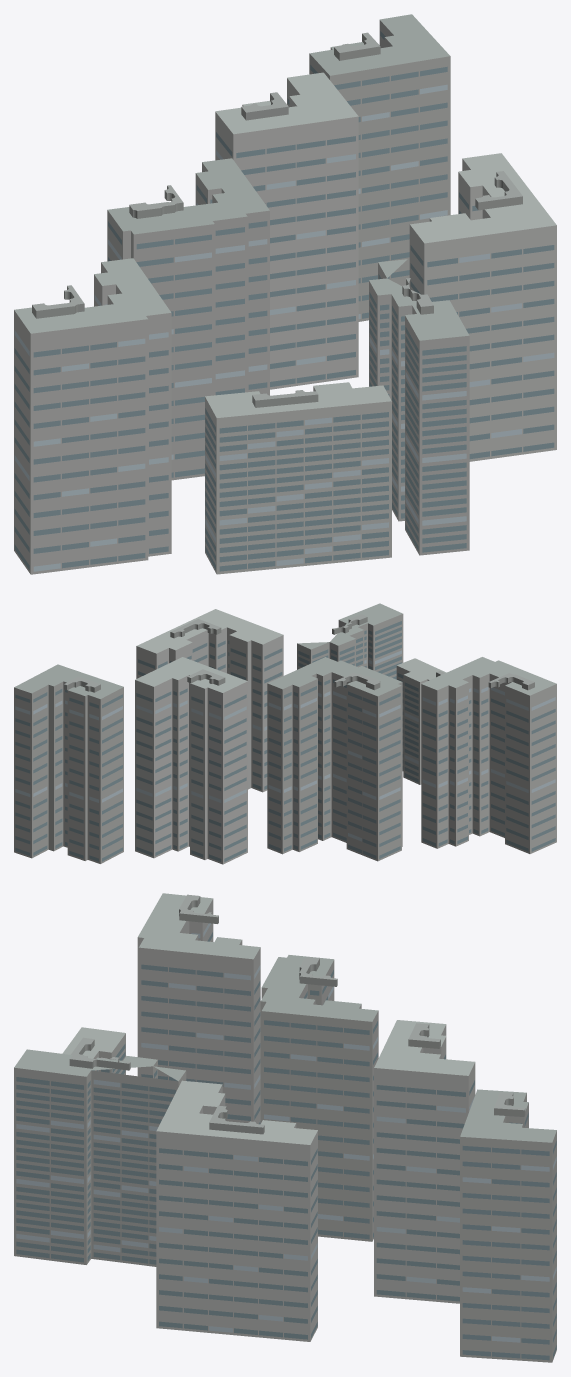
The model's file is apt-a10025768.glb.
3 renders of one model, top to bottom at view 1: azimuth 30°, elevation 25°; view 2: azimuth 150°, elevation 25°; view 3: azimuth 270°, elevation 25°, orthographic. The views are drawn at different scales.
Parts seen in each view (by area): view 1: apt-a10025768; view 2: apt-a10025768; view 3: apt-a10025768.
Boxes of the visible parts, x1,y1,x2,y2 form: apt-a10025768: (14, 14, 556, 574); apt-a10025768: (14, 603, 556, 864); apt-a10025768: (14, 893, 556, 1362).
Size of the model in its own units: 193 by 82 by 171.
